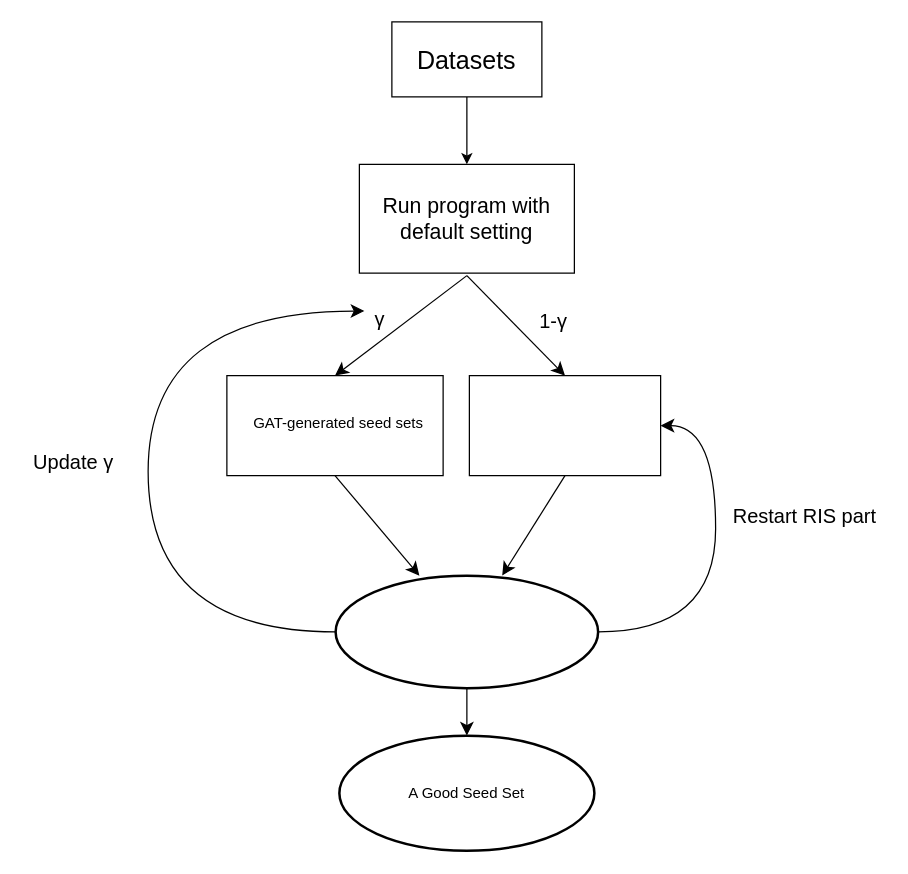
This 908x874 diagram has some shape labels left out. Here are the shapes that lost their labels. From the top down, the centre of each, then its label:
At (564,425): "RIS-generated seed sets".
At (466,631): "An Unoptimal Seed Set".
